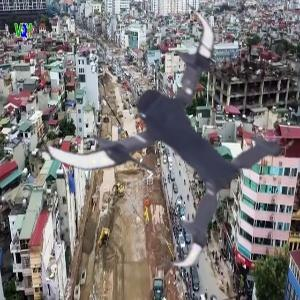drone: (51, 9, 289, 247)
